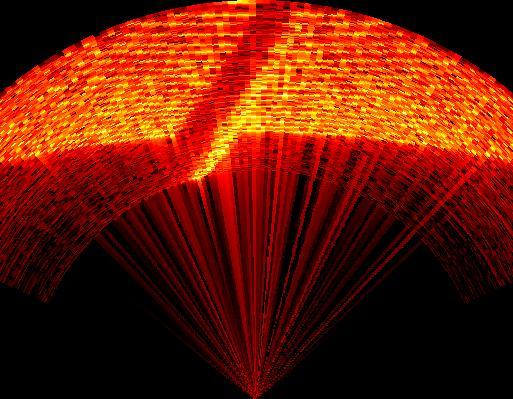pipe: (158, 2, 300, 178)
